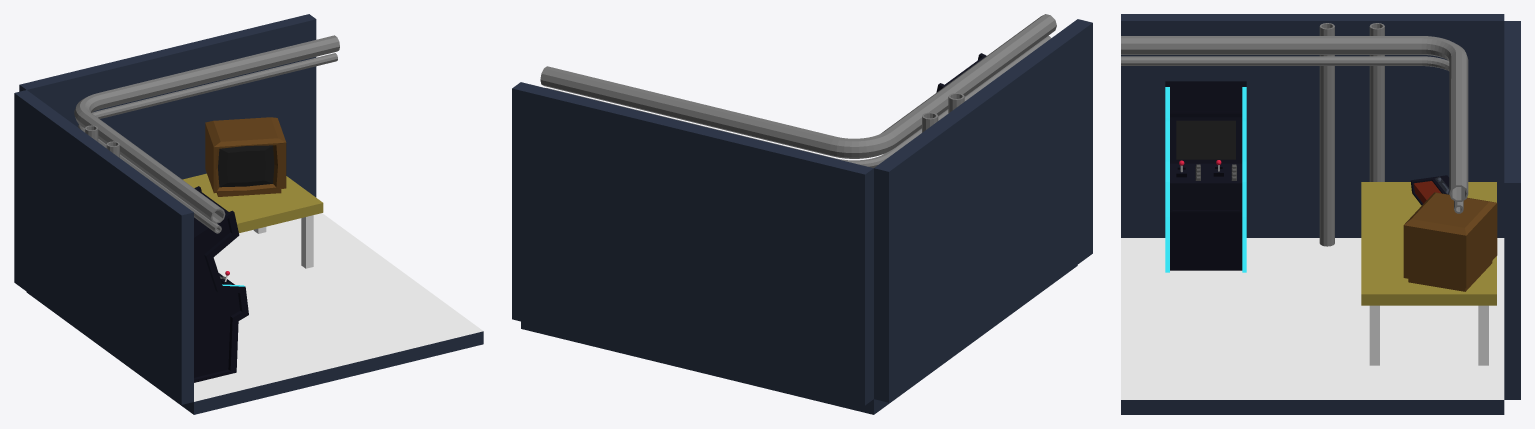
File: room.glb
3 views of the same model, side by side, from view 1: azimuth 30°, elevation 25°; view 2: azimuth 150°, elevation 25°; view 3: azimuth 270°, elevation 25° (orthographic). The views are drawn at different scales.
Parts seen in each view (by area): view 1: Walls, Tube top, Plane.005, Tabletop, Plane.012, Tube Bottom, Plane.010, Table; view 2: Walls, Tube top, Tube Bottom; view 3: Walls, Plane.005, Tube top, Tabletop, Plane.010, Tubes Vertical, Tube Bottom, Table, Plane.014.
Boxes of the visible parts, bbox=[...] form: Walls: bbox=[14, 14, 483, 414]; Tube top: bbox=[74, 35, 339, 223]; Plane.005: bbox=[194, 186, 248, 382]; Tabletop: bbox=[182, 173, 323, 233]; Plane.012: bbox=[213, 143, 279, 193]; Tube Bottom: bbox=[78, 53, 337, 233]; Plane.010: bbox=[205, 117, 286, 196]; Table: bbox=[253, 215, 313, 268]; Walls: bbox=[512, 19, 1092, 414]; Tube top: bbox=[540, 14, 1056, 158]; Tube Bottom: bbox=[546, 35, 1051, 167]; Walls: bbox=[1121, 14, 1520, 414]; Plane.005: bbox=[1165, 81, 1246, 272]; Tube top: bbox=[1121, 36, 1468, 201]; Tabletop: bbox=[1361, 182, 1496, 305]; Plane.010: bbox=[1403, 192, 1497, 291]; Tubes Vertical: bbox=[1319, 23, 1384, 246]; Tube Bottom: bbox=[1121, 56, 1463, 213]; Table: bbox=[1369, 305, 1488, 365]; Plane.014: bbox=[1410, 175, 1449, 205].
Size of the model in its own units: 8.34 by 5.51 by 8.34.
